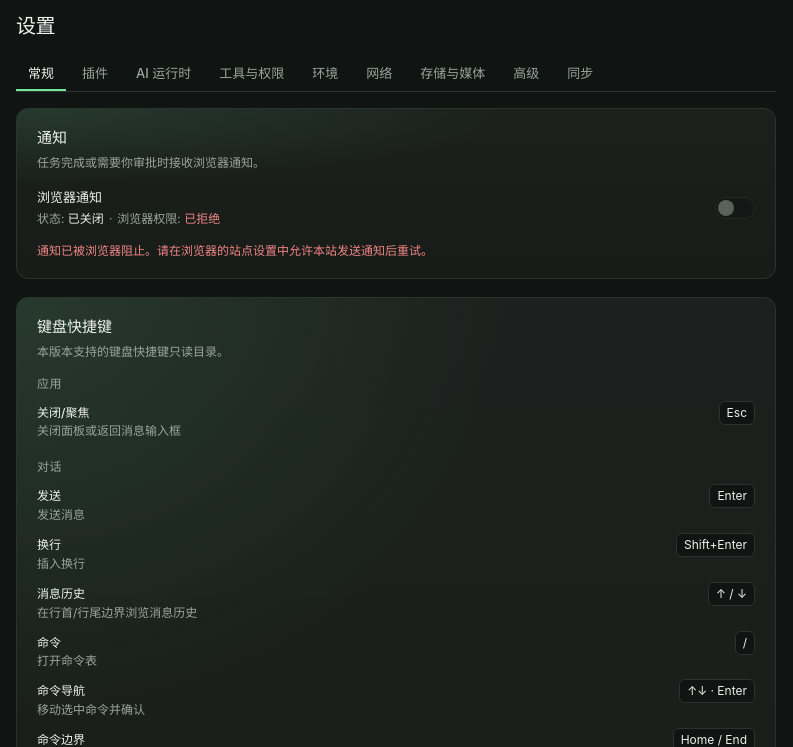
Test case: system settings server editor › saves the complete aggregate with expectedVersion and clears the dirty state on success
Click the tab "AI 运行时". click: [164, 75]
box: 124,59 -> 203,91
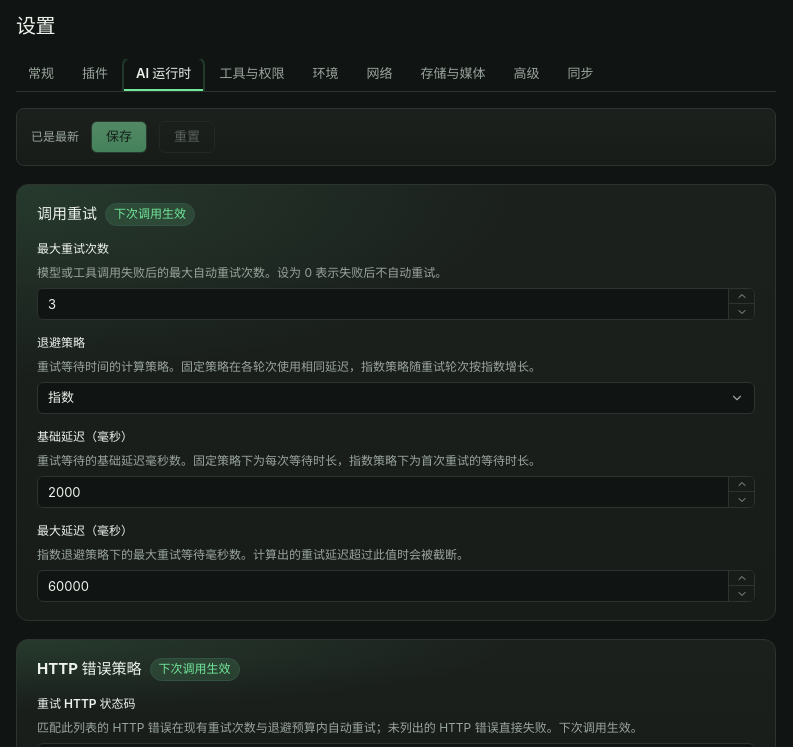
Replace the text in the field labelled "基础延迟（毫秒）" with "3000". click: [396, 492]
box: 37,476 -> 755,508
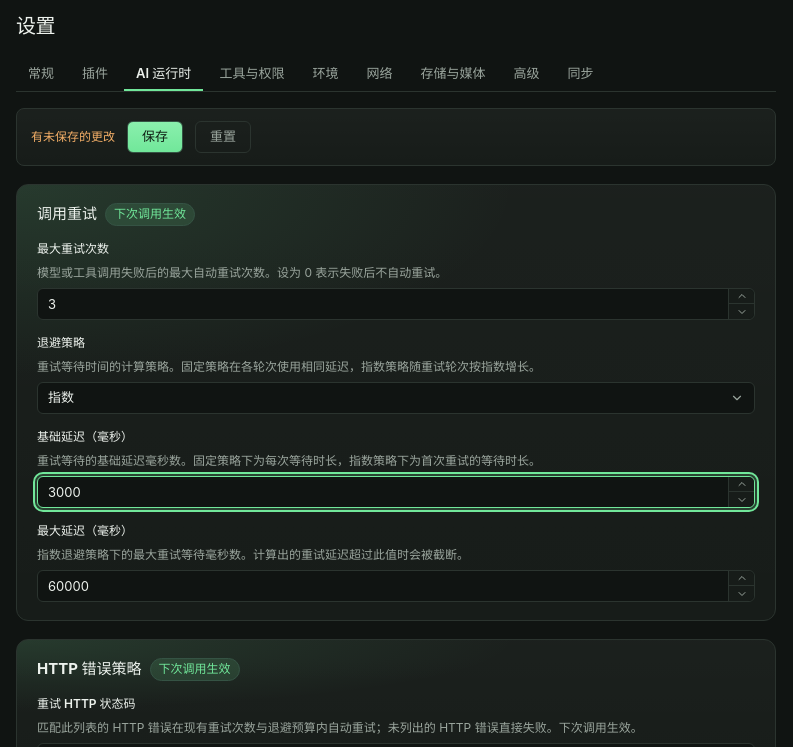
Expected: the text "有未保存的更改" is shown, 31,128 -> 115,146
Click the button "保存". click: [155, 137]
box: 127,121 -> 183,153
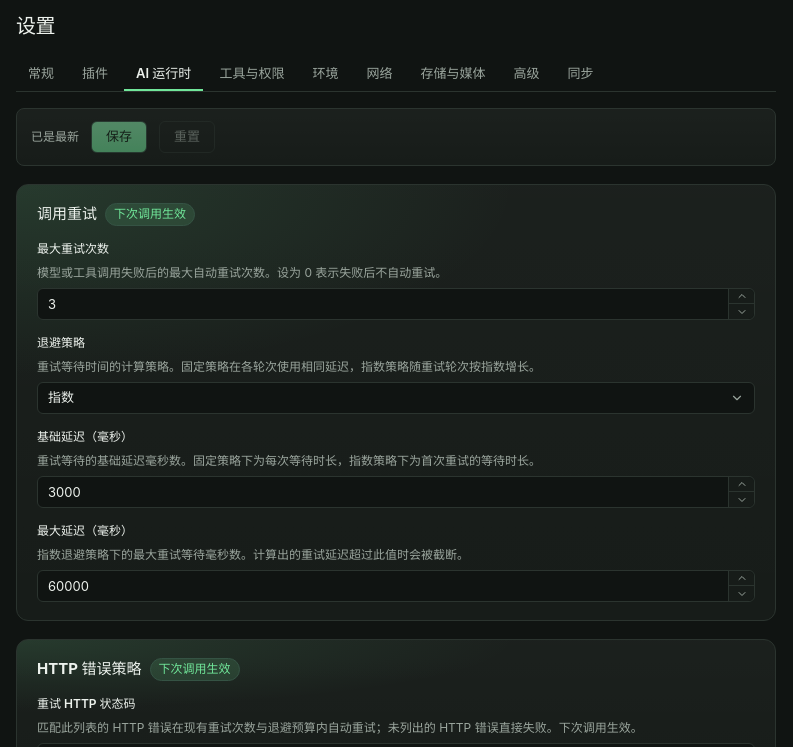
Expected: the text "已是最新" is shown, 31,128 -> 79,146
